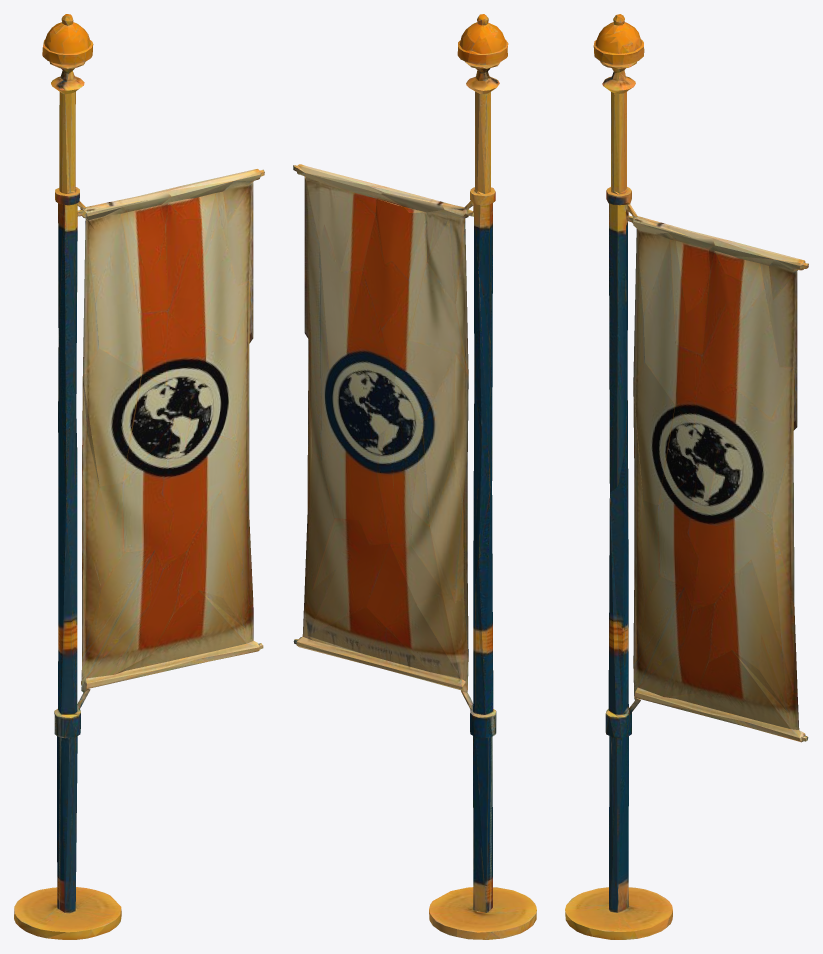
The model's file is steel_banner.glb.
3 views of the same model, side by side, from view 1: azimuth 30°, elevation 25°; view 2: azimuth 150°, elevation 25°; view 3: azimuth 330°, elevation 25° (orthographic).
Visible parts, largest first — view 1: Mesh_0; view 2: Mesh_0; view 3: Mesh_0.
Part boxes in pixels (x1=…): Mesh_0: x1=14, y1=14, x2=264, y2=939; Mesh_0: x1=293, y1=14, x2=536, y2=939; Mesh_0: x1=565, y1=14, x2=808, y2=939.
Bounding box in the file's own units: 0.5269 × 1.9 × 0.2063.
Materials: 1 (1 with a texture image).
